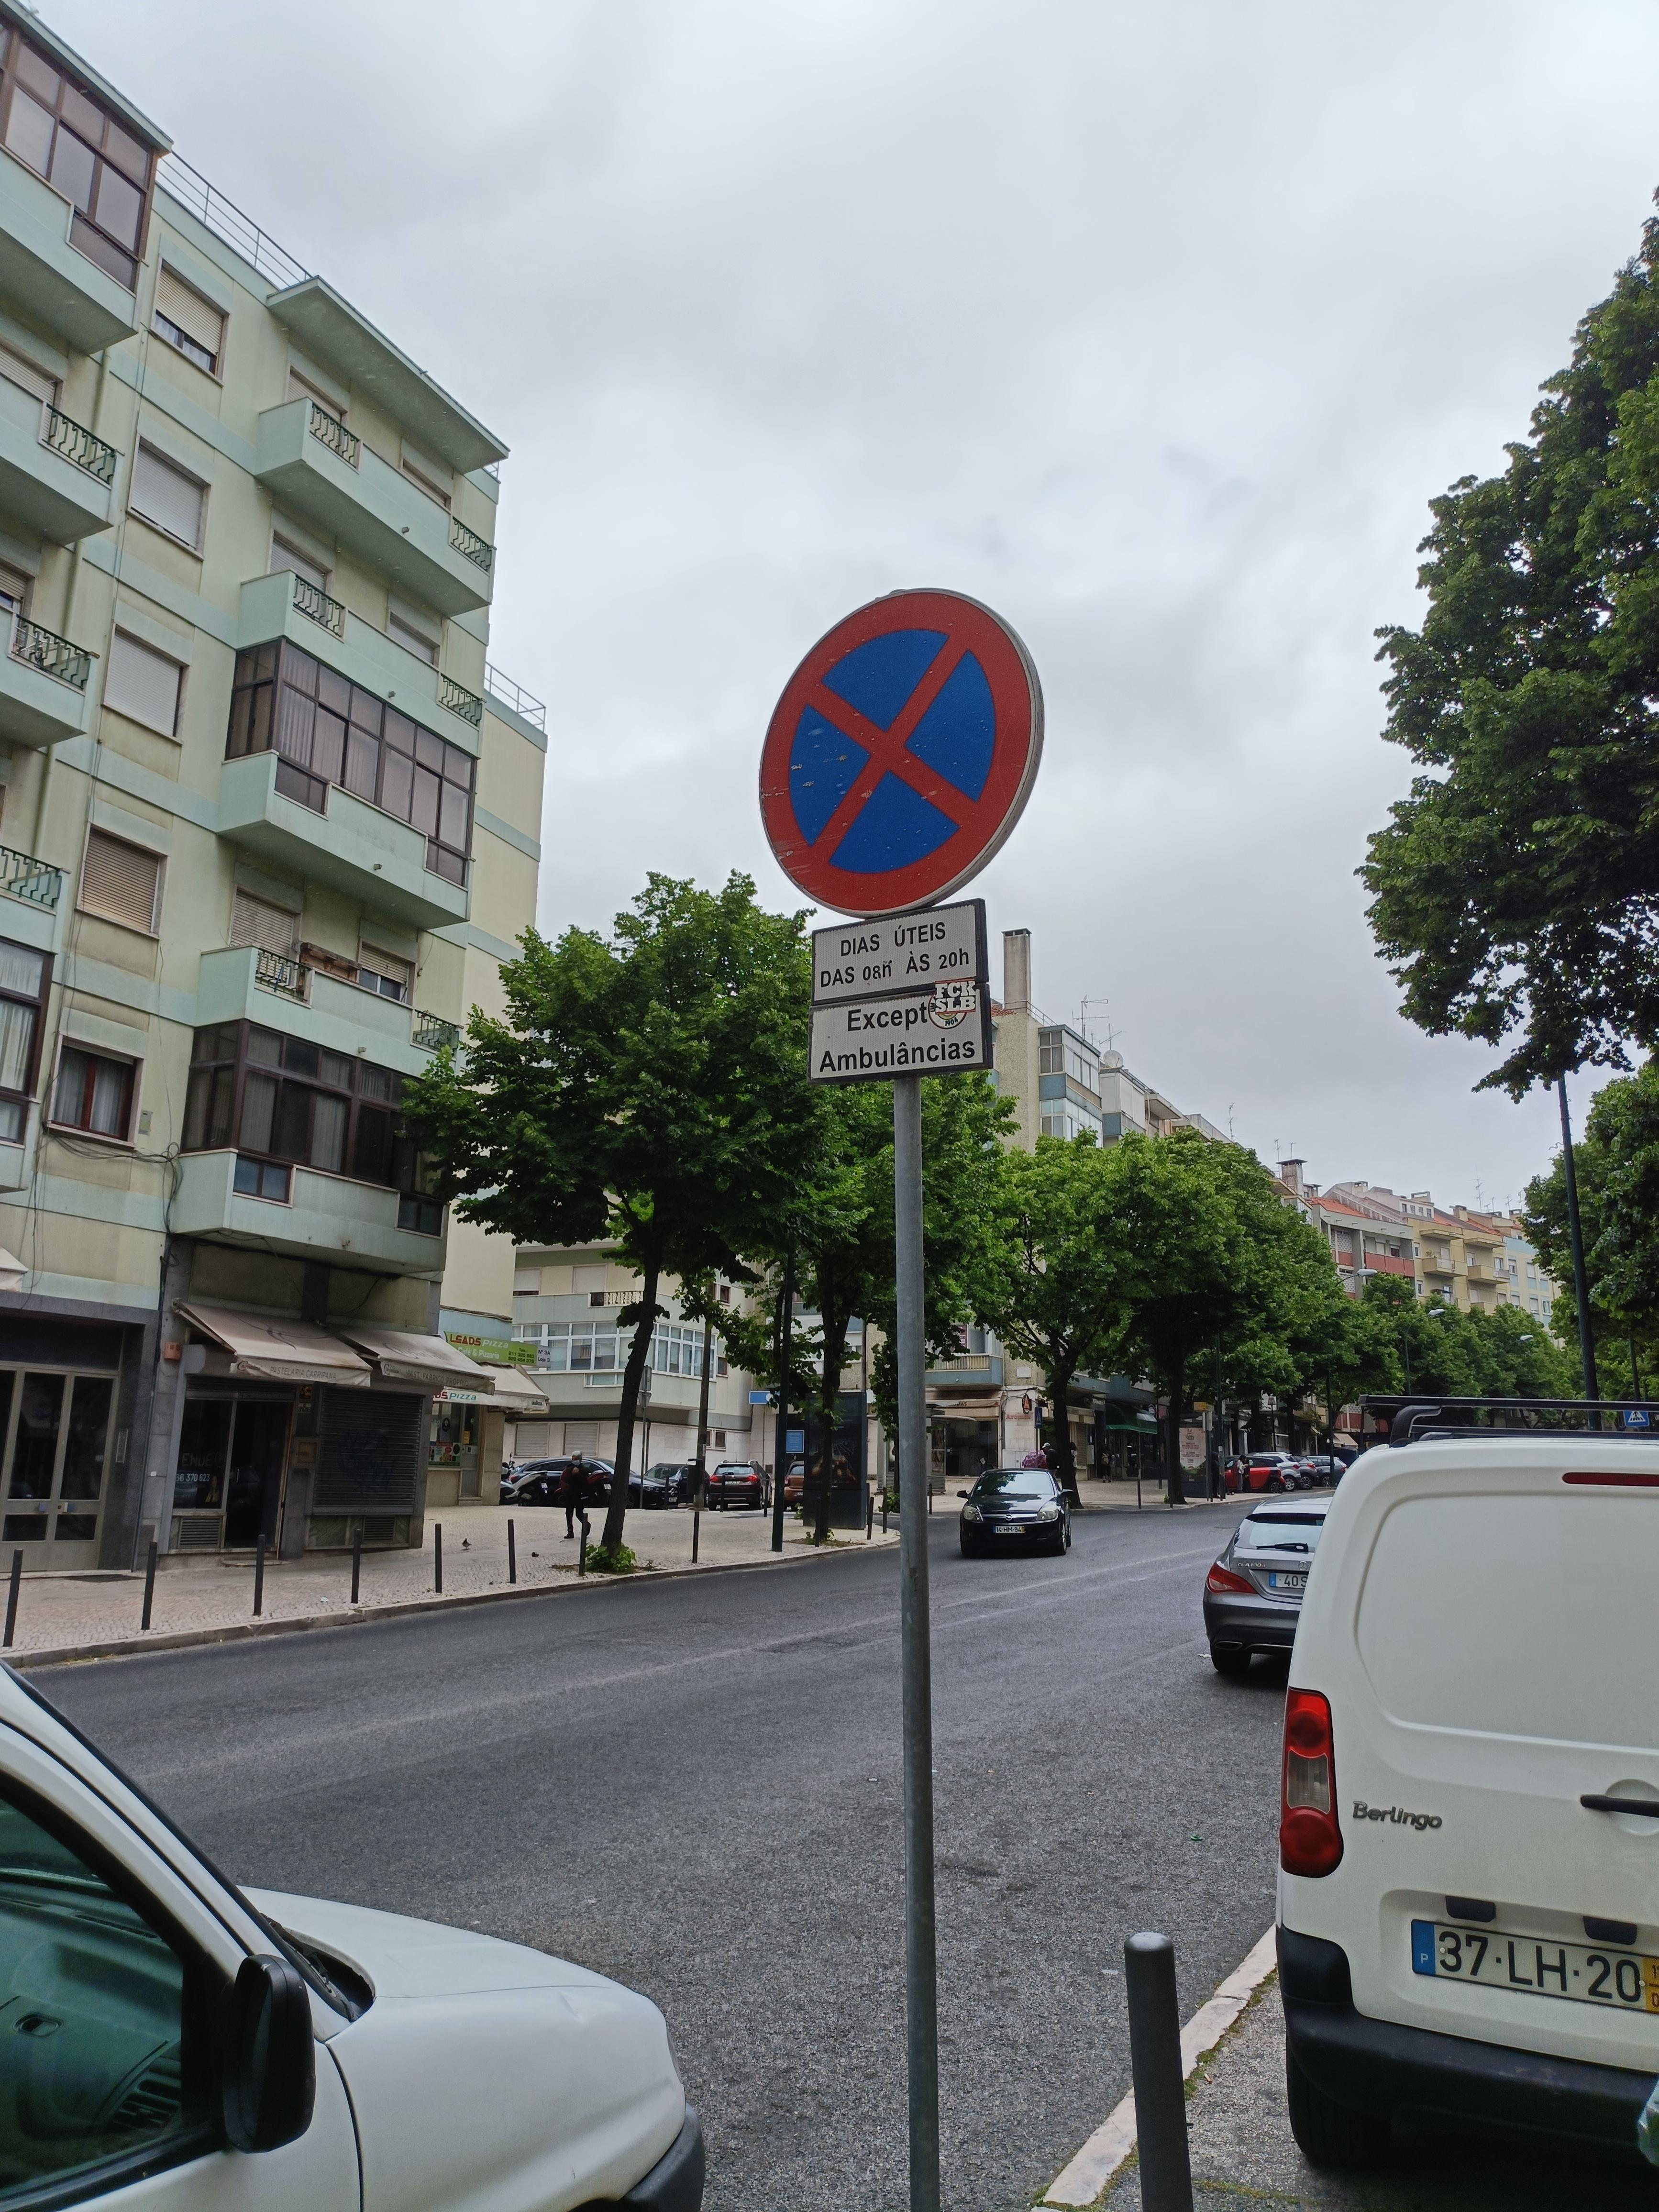paragem e estacionamento proibido: (751, 575, 1047, 909)
